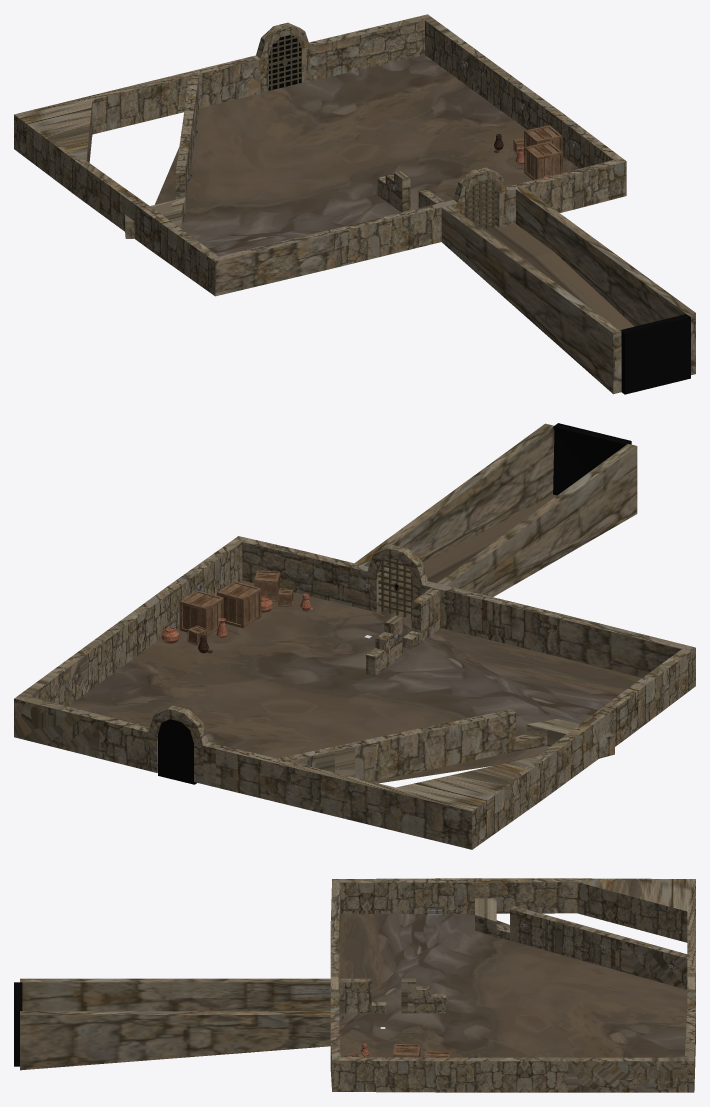
Rendered from CraftingTutorial.glb.
3 views of the same model, one above another, from view 1: azimuth 30°, elevation 25°; view 2: azimuth 150°, elevation 25°; view 3: azimuth 270°, elevation 25° (orthographic). The views are drawn at different scales.
Visible parts, largest first — view 1: Walls, Plane, NextRoom, Cube.014, Exit Gate, Exit Gate.001, Entrance, Cube.004; view 2: Walls, Plane, NextRoom, Entrance, Cube.014, Cube.004, Exit Gate, Cube.003; view 3: Walls, Plane, NextRoom, Cube.014.
Boxes of the visible parts, x1,y1,x2,y2 form: Walls: (14, 14, 695, 394); Plane: (155, 55, 633, 329); NextRoom: (620, 314, 690, 394); Cube.014: (524, 141, 562, 180); Exit Gate: (466, 179, 497, 228); Exit Gate.001: (269, 35, 301, 90); Entrance: (269, 35, 301, 90); Cube.004: (524, 125, 562, 155); Walls: (14, 423, 695, 849); Plane: (68, 494, 641, 783); NextRoom: (553, 423, 631, 495); Entrance: (158, 719, 196, 784); Cube.014: (217, 581, 261, 628); Cube.004: (179, 590, 223, 636); Exit Gate: (378, 558, 413, 618); Cube.003: (254, 570, 280, 602); Walls: (20, 878, 695, 1092); Plane: (339, 914, 687, 1057); NextRoom: (14, 982, 22, 1066); Cube.014: (393, 1044, 420, 1057).
Size of what is drawn, in the model's own units: 25.45 by 4.97 by 39.47.
Materials: 9 (7 with a texture image).
